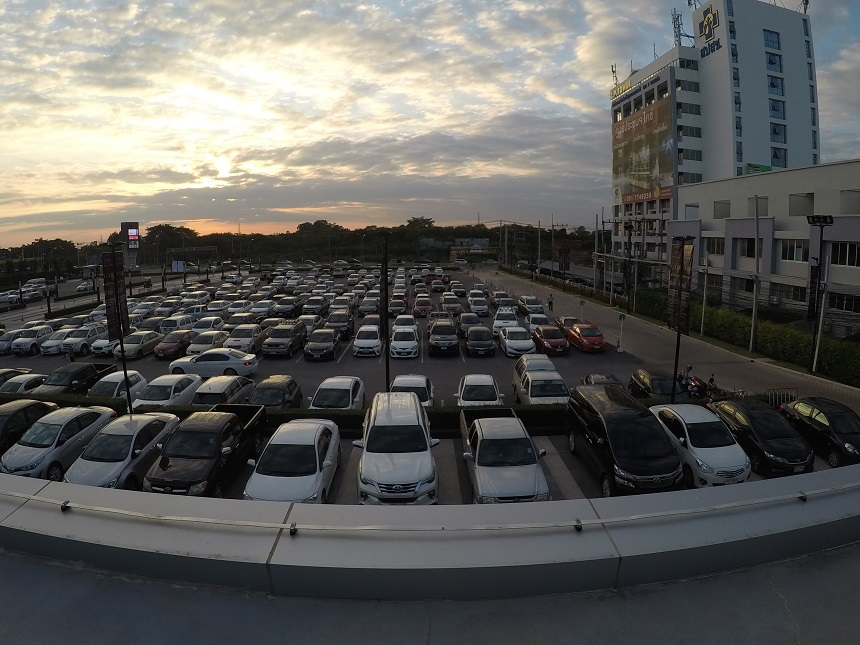busy: (352, 441, 446, 496), (468, 454, 553, 499), (258, 444, 332, 489), (606, 444, 680, 485), (160, 441, 233, 482), (690, 438, 747, 479), (85, 441, 145, 476), (756, 433, 810, 469), (21, 431, 72, 467), (818, 414, 860, 456), (314, 380, 363, 406), (255, 379, 298, 407), (518, 375, 566, 399), (633, 371, 677, 397), (454, 378, 498, 401), (146, 377, 188, 401), (201, 379, 241, 400), (262, 335, 298, 358), (1, 401, 32, 427), (390, 374, 429, 394), (96, 374, 131, 396), (385, 338, 420, 358), (348, 336, 382, 356), (54, 369, 86, 389), (499, 336, 533, 354), (583, 373, 620, 389), (425, 336, 459, 353), (227, 332, 254, 353), (308, 342, 335, 362), (466, 339, 496, 355), (154, 341, 182, 358), (578, 335, 606, 352), (539, 337, 568, 353), (63, 339, 86, 353), (10, 378, 32, 392), (116, 341, 138, 355), (16, 338, 36, 353), (190, 341, 212, 354), (40, 341, 60, 355), (94, 340, 112, 354), (1, 366, 23, 377), (1, 337, 10, 351)
